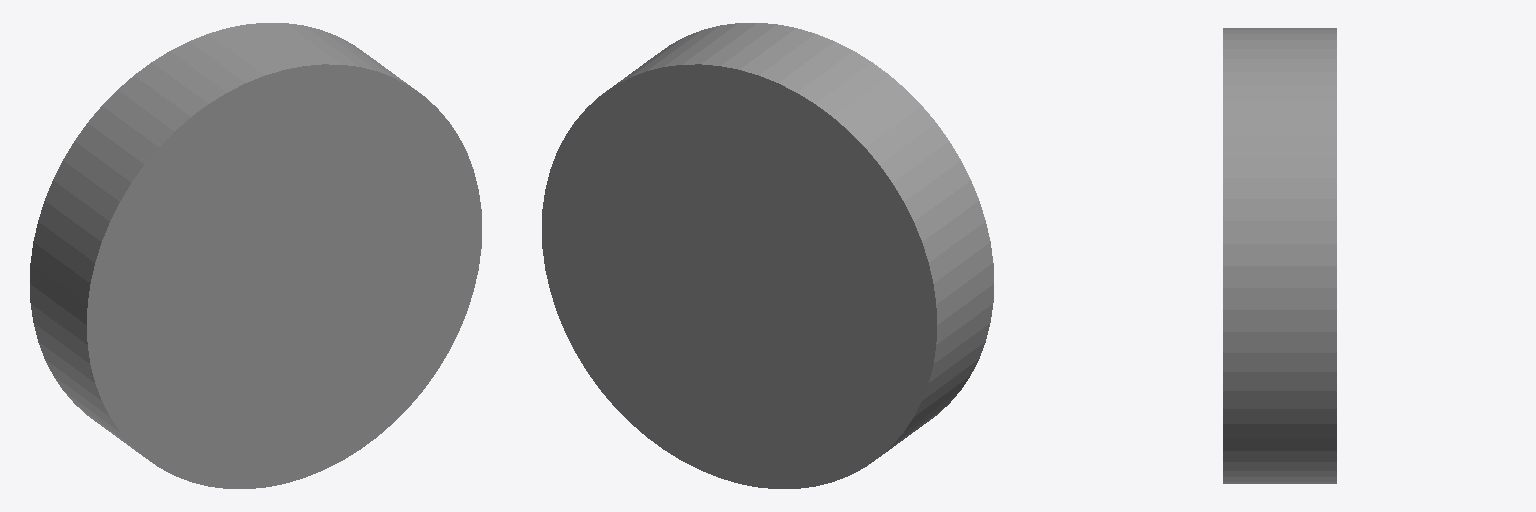
File: Maja_Default00.obj
The picture shows the model from 3 angles: view 1: azimuth 30°, elevation 25°; view 2: azimuth 150°, elevation 25°; view 3: azimuth 270°, elevation 25°; orthographic projection.
Visible parts, largest first — view 1: Circle; view 2: Circle; view 3: Circle.
Boxes of the visible parts, box(x1,y1,x2,y2) form: Circle: box(30, 23, 481, 488); Circle: box(542, 23, 993, 488); Circle: box(1223, 28, 1336, 483).
Bounding box in the file's own units: 2 × 2 × 0.5.